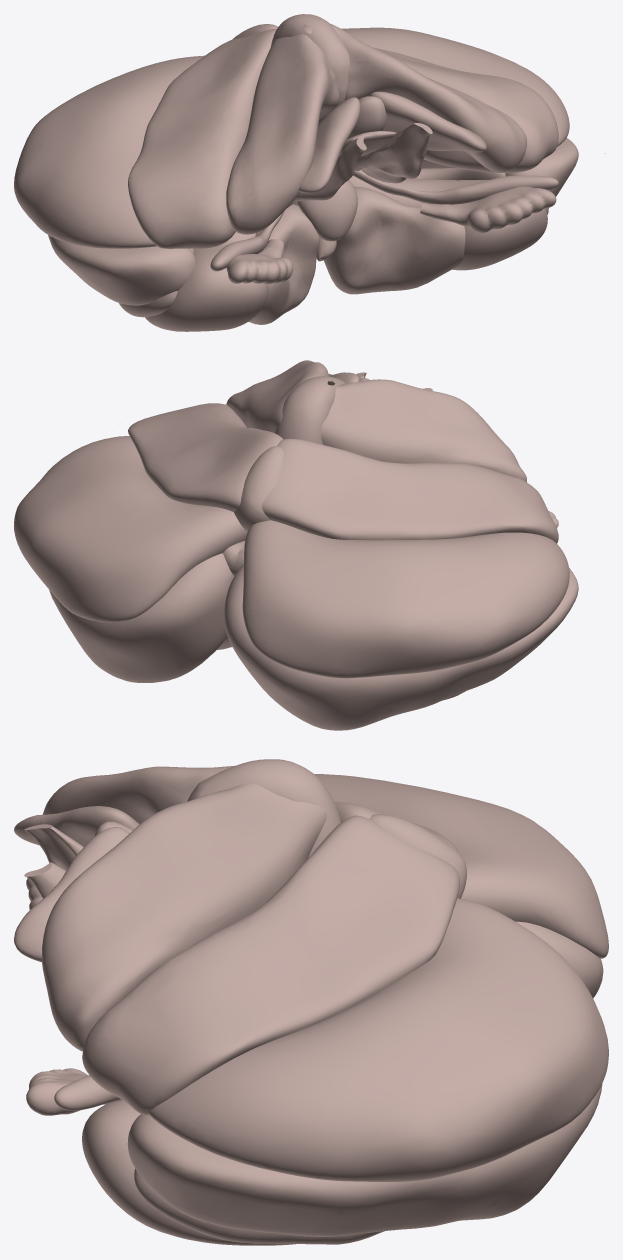
File: cerebellum-core-mobile.glb
3 renders of one model, top to bottom at view 1: azimuth 30°, elevation 25°; view 2: azimuth 150°, elevation 25°; view 3: azimuth 270°, elevation 25°, orthographic. The views are drawn at different scales.
Visible parts, largest first — view 1: organ.cerebellum-partial; view 2: organ.cerebellum-partial; view 3: organ.cerebellum-partial.
Boxes of the visible parts, x1,y1,x2,y2 form: organ.cerebellum-partial: [14, 14, 605, 331]; organ.cerebellum-partial: [14, 360, 578, 730]; organ.cerebellum-partial: [14, 759, 608, 1245].
Bounding box in the file's own units: 0.0982 × 0.0529 × 0.071.
